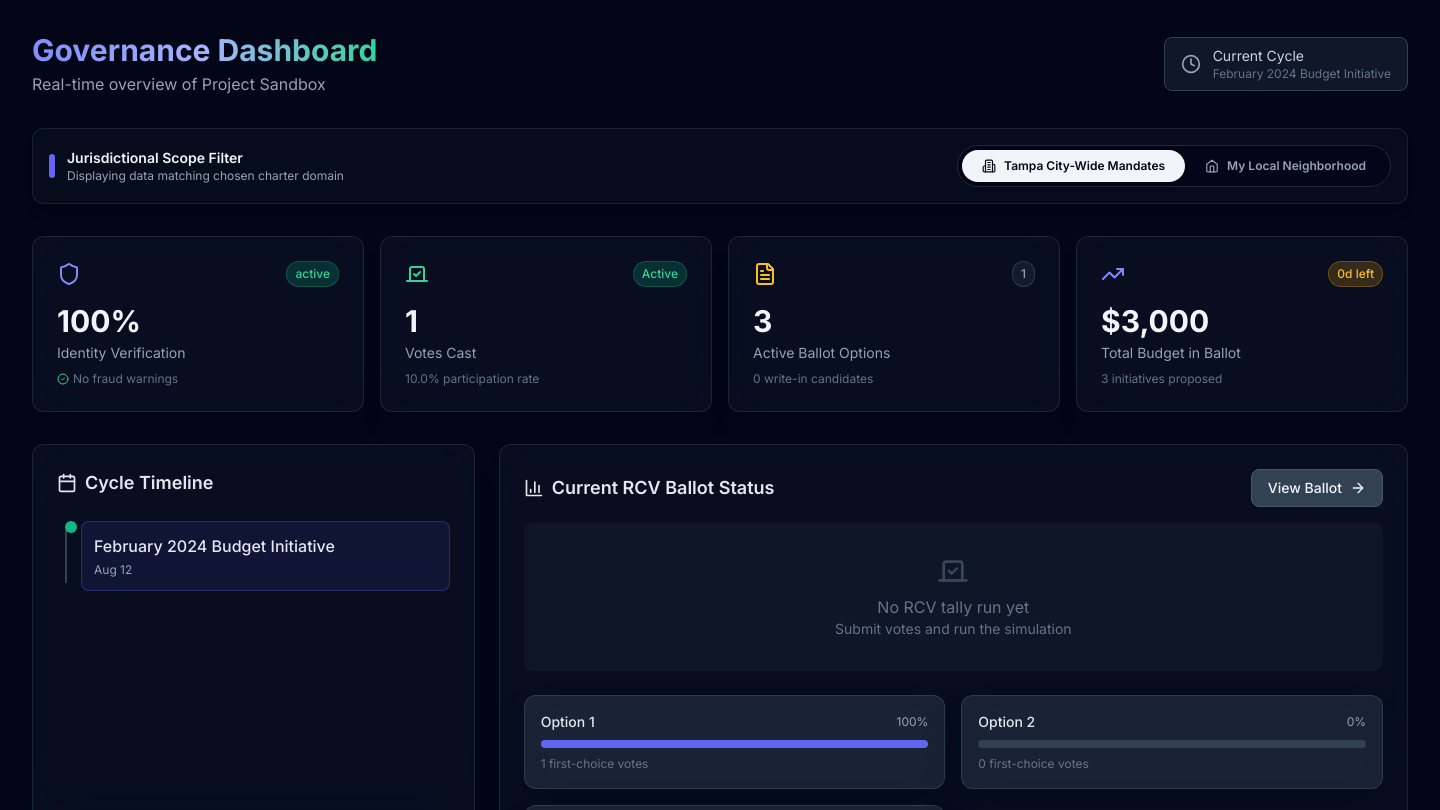
it: Dashboard Component › toggles jurisdictional scope filter
# Click local
Step 1. Click the button "My Local Neighborhood" → {"x": 1286, "y": 166}, box [1185, 150, 1386, 182]
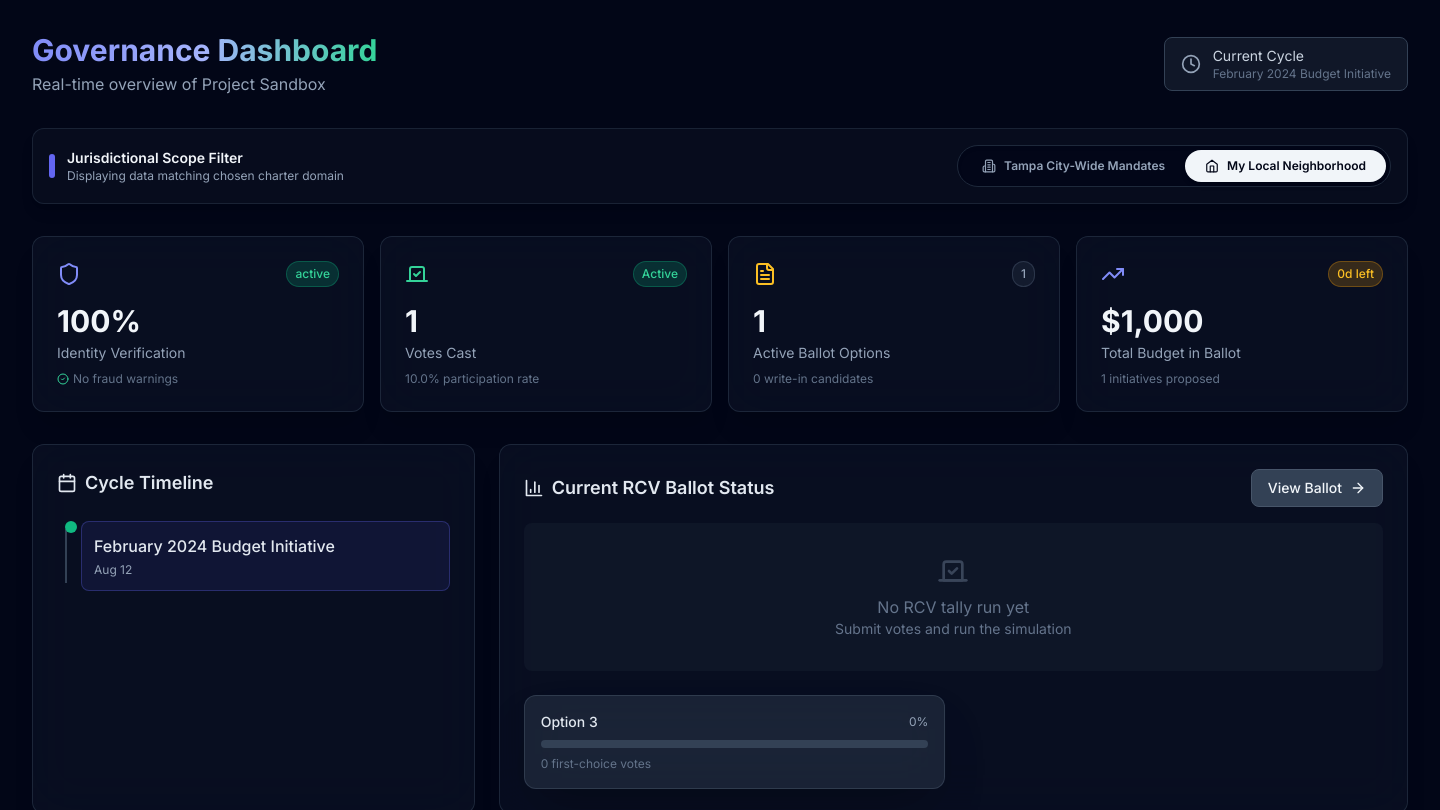
Now the button "My Local Neighborhood" has class "bg-primary-100", box [1185, 150, 1386, 182]
Now the button "Tampa City-Wide Mandates" has class "text-primary-400", box [962, 150, 1185, 182]
